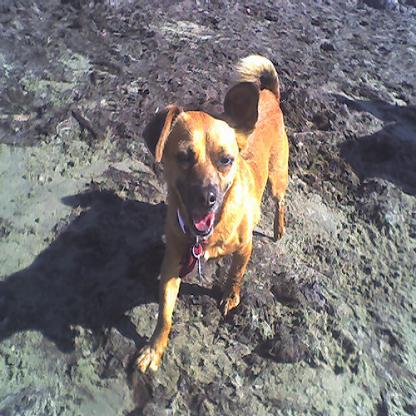dog: (132, 52, 289, 376)
